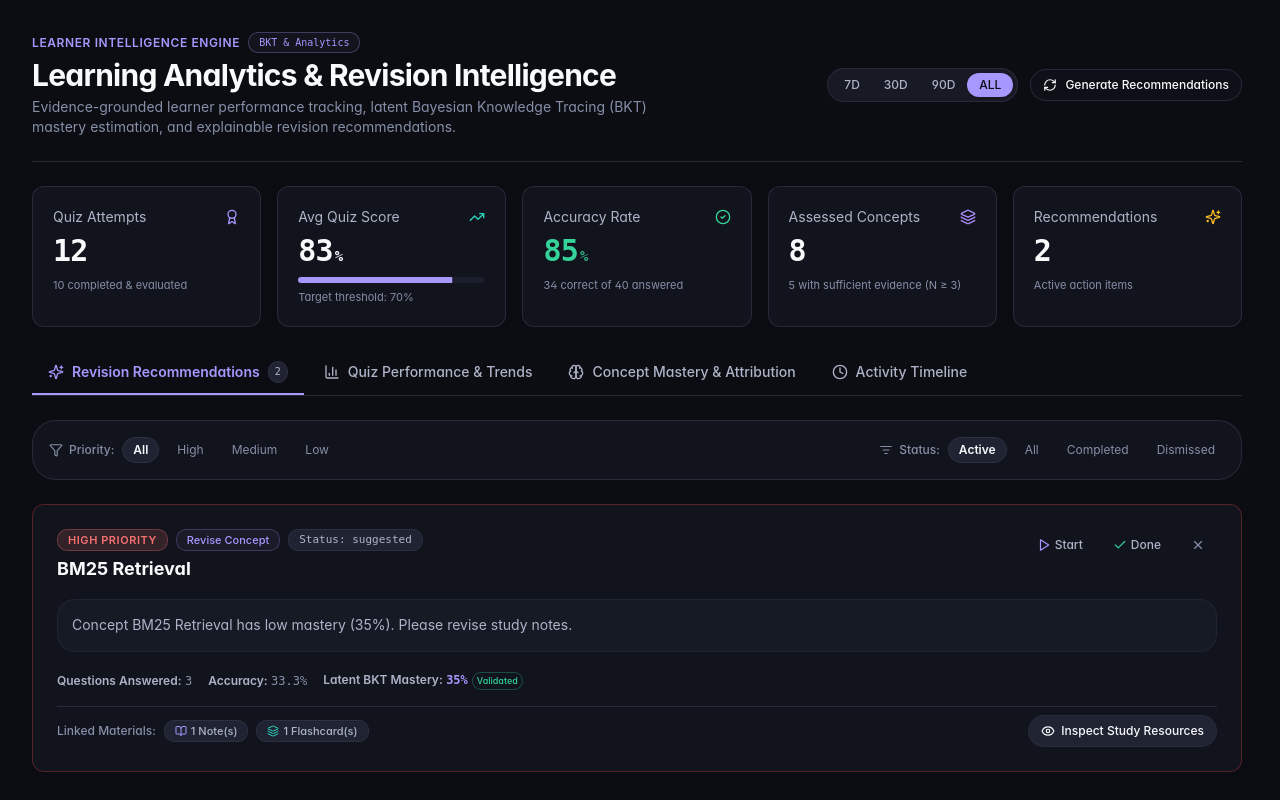
Test: LearningAnalyticsPage Component (C9.8 & C9.7) › allows opening concept revision resources modal
Click the button "Inspect Study Resources" at (1123, 731), box left=1028, top=715, right=1217, bottom=747
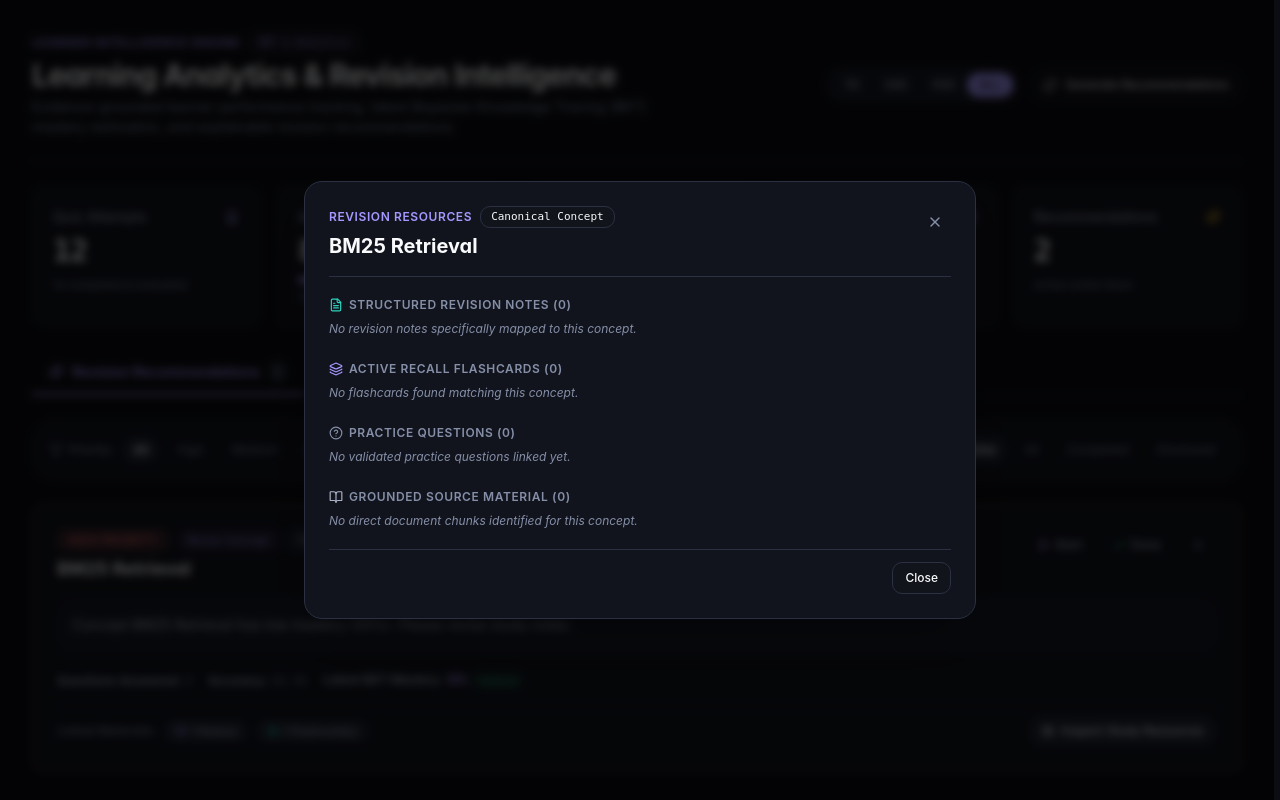
Now the text "Revision Resources" is shown, box left=329, top=209, right=472, bottom=225
